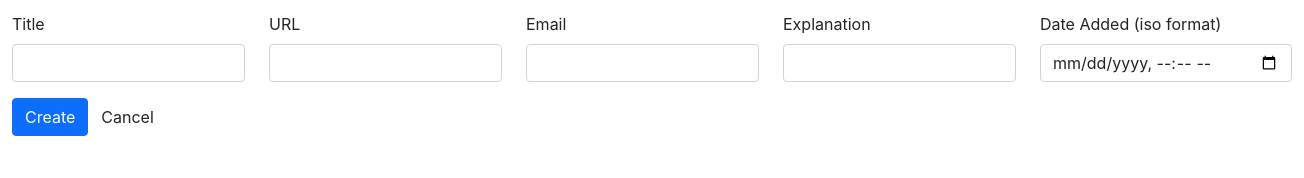
it: ArticlesForm tests › Correct Error messsages on missing input
What coordinates should you click on to do the following:
click the button with test id "ArticlesForm-submit"
I would click on:
 (50, 117)
Its box is [12,98,88,136].
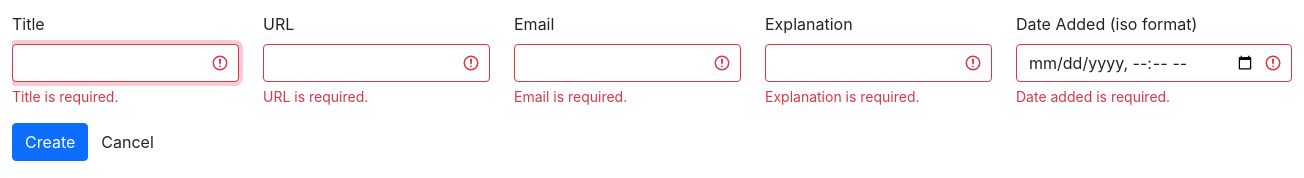
Check: the text "Title is required." is shown, box [12,88,118,105]
Check: the text "Email is required." is shown, box [514,88,627,105]
Check: the text "URL is required." is shown, box [263,88,368,105]
